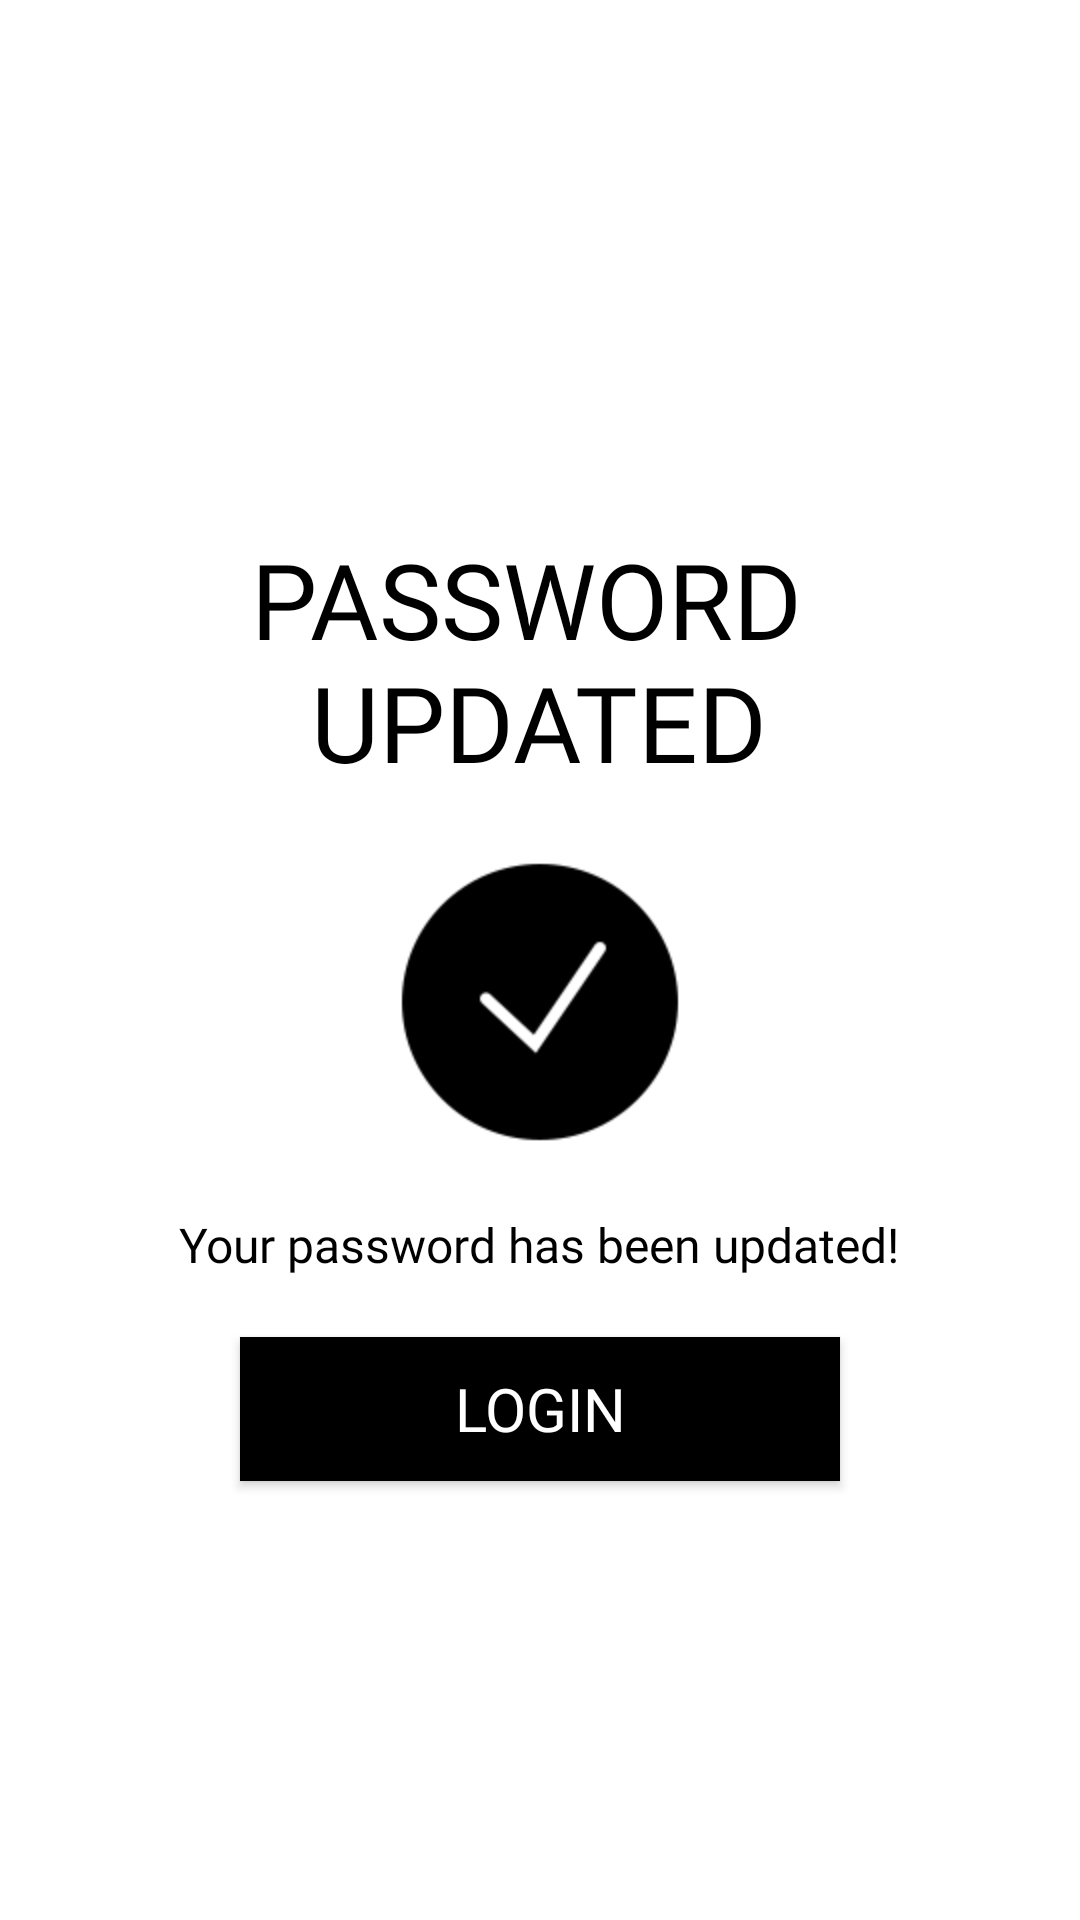

Icon bounding boxes for this 1080*1920 phone screenshot, format (x1, y1, x2, y2):
check: (401, 863, 679, 1141)
